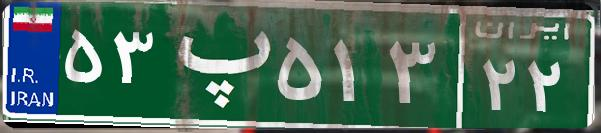1: (330, 28, 385, 110)
2: (475, 38, 525, 113), (525, 38, 570, 115)
3: (385, 28, 445, 110), (110, 28, 158, 105)
5: (273, 28, 330, 110), (57, 26, 110, 107)
پ: (158, 15, 273, 115)
